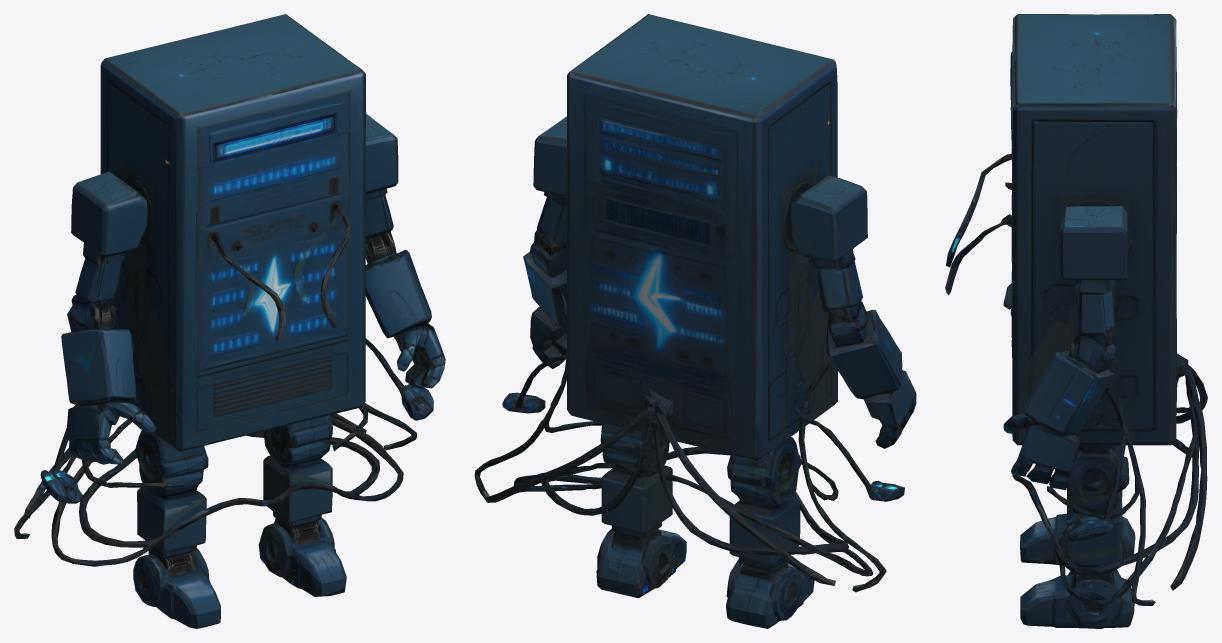
The model's file is Power_Surge_Robot_0530024453_texture 1.fbx.
The picture shows the model from 3 angles, left to right: view 1: azimuth 30°, elevation 25°; view 2: azimuth 150°, elevation 25°; view 3: azimuth 270°, elevation 25°; orthographic projection. The views are drawn at different scales.
Parts seen in each view (by area): view 1: temp; view 2: temp; view 3: temp.
Part boxes in pixels (<box>): temp: <box>14,14,445,628</box>; temp: <box>474,14,916,628</box>; temp: <box>945,14,1207,628</box>.
Size of the model in its own units: 162 by 200 by 90.24.
1 material, 1 textured.
